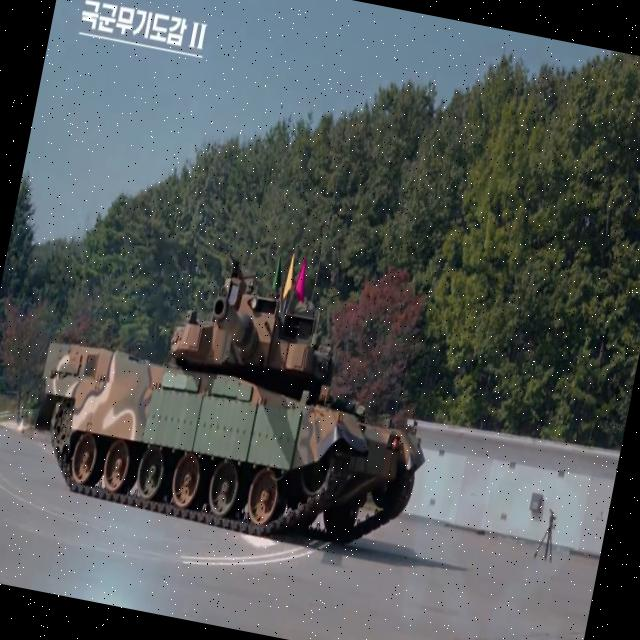korea tank: (19, 220, 458, 566)
